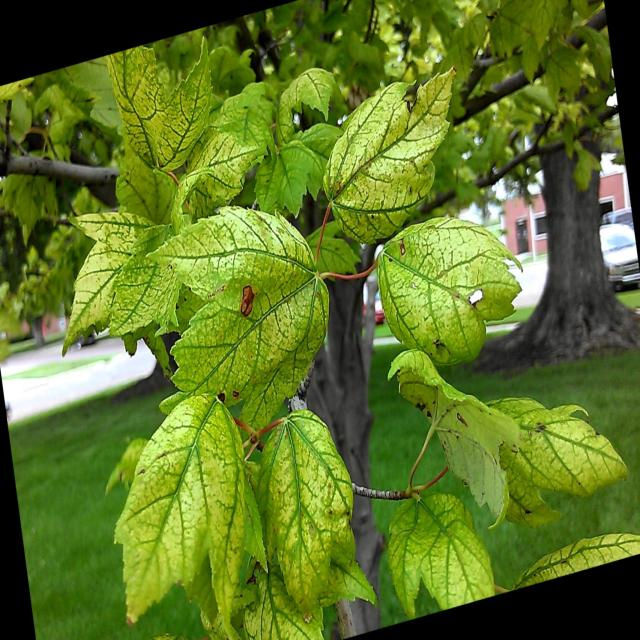Chlorosis: (34, 44, 640, 628)
